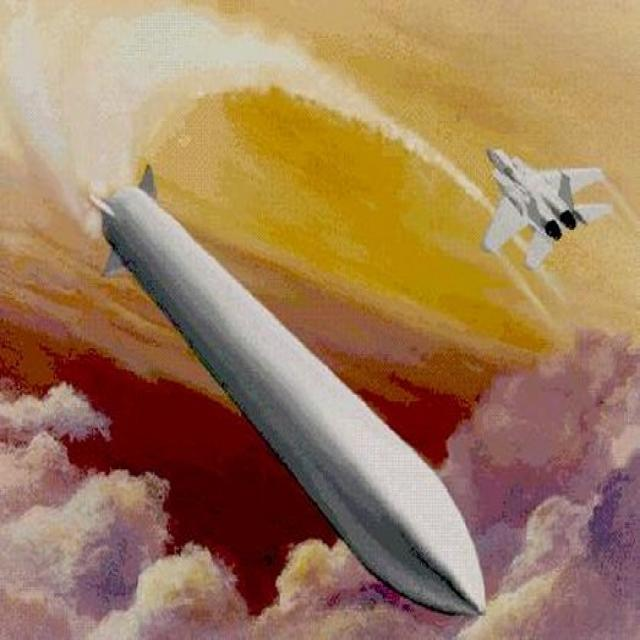Missile: (81, 170, 492, 632)
